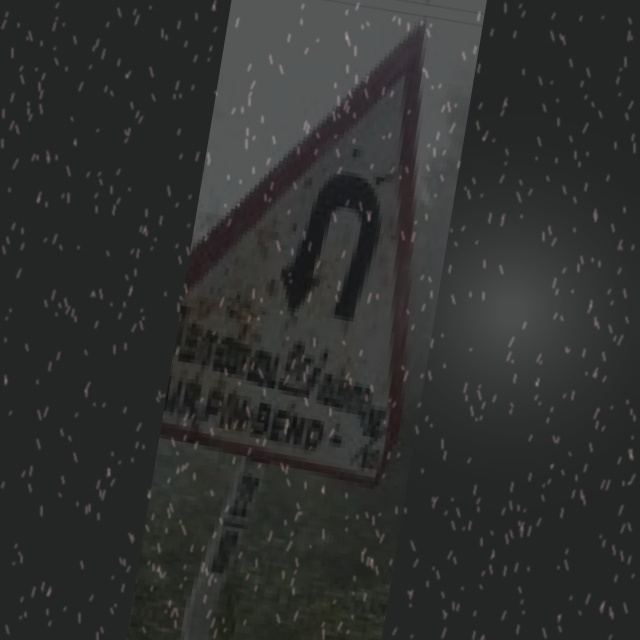Left_Hair_Pin_Bend: (242, 125, 441, 353)
